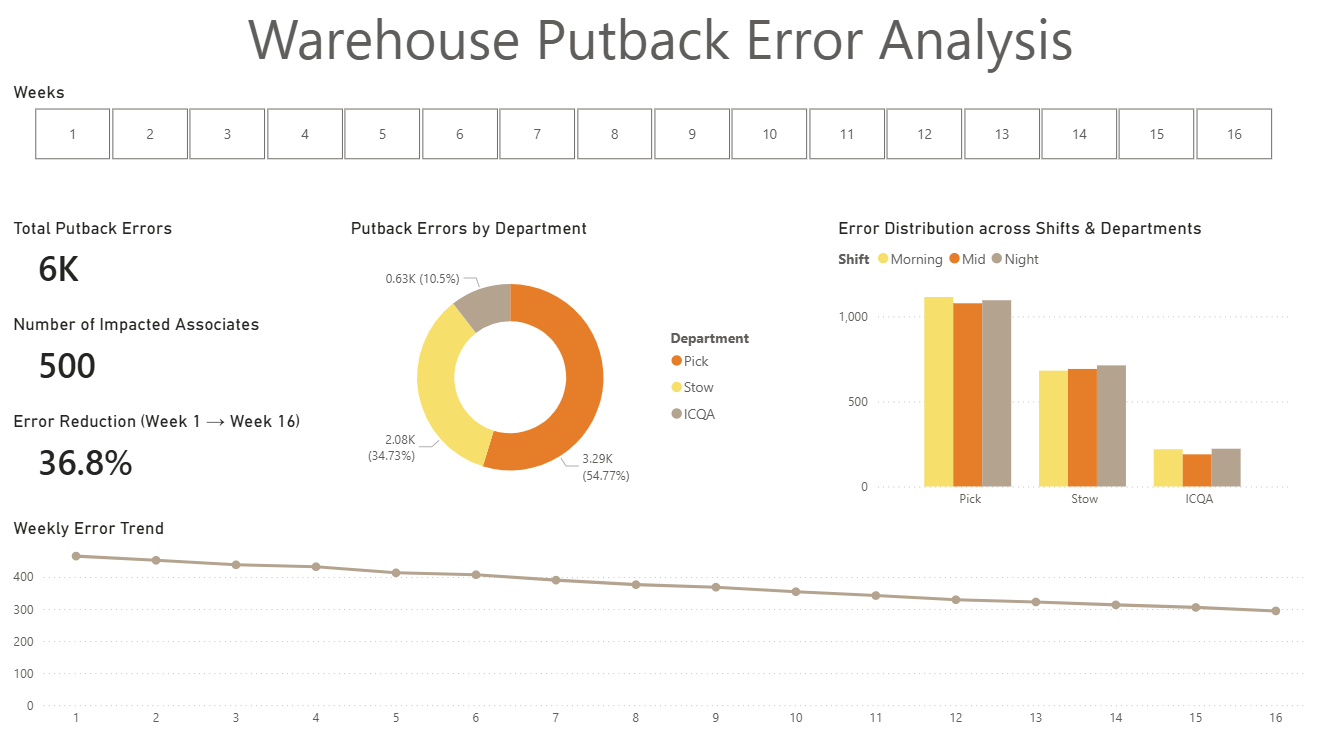

The page's visual inventory and layout, read from the dashboard file:
{"tool":"powerbi","page":{"name":"Page 1","canvas":[1280,720],"ordinal":0},"visuals":[{"type":"donutChart","title":"Putback Errors by Department","fields":{"Category":["putback_errors raw_data.Department"],"Y":["CountNonNull(putback_errors raw_data.Error_ID)"]},"box":[335.4,219.6,411.4,289.5],"z":0},{"type":"clusteredColumnChart","title":"Error Distribution across Shifts & Departments","fields":{"Category":["putback_errors raw_data.Department"],"Series":["putback_errors raw_data.Shift"],"Y":["CountNonNull(putback_errors raw_data.Error_ID)"]},"box":[805.9,219.6,447.6,289.5],"z":1},{"type":"cardVisual","title":"Total Putback Errors","fields":{"Data":["CountNonNull(putback_errors raw_data.Error_ID)"]},"box":[9.7,219.6,289.5,79.6],"z":2},{"type":"cardVisual","title":"Number of Impacted Associates","fields":{"Data":["Count(putback_errors raw_data.Associate_ID)"]},"box":[9.7,312.5,289.5,80.8],"z":3},{"type":"slicer","title":"Weeks","fields":{"Values":["putback_errors raw_data.Week"]},"box":[9.7,88.1,1243.8,82],"z":4},{"type":"lineChart","title":"Weekly Error Trend","fields":{"Category":["putback_errors raw_data.Week"],"Y":["CountNonNull(putback_errors raw_data.Error_ID)"]},"box":[9.6,509.1,1259.7,211.3],"z":5},{"type":"actionButton","box":[9.7,0,1259.5,88.1],"z":6},{"type":"cardVisual","title":"Error Reduction (Week 1 → Week 16)","fields":{"Data":["putback_errors raw_data.Error Reduction %"]},"box":[9.7,405.4,289.5,82],"z":7}]}

Visuals, with their boxes in screenshot pixels (x1, y1, x2, y2), scaled from the page's 1280x720 canvas onto the 1322x736 screenshot:
"Putback Errors by Department" donutChart: (left=346, top=224, right=771, bottom=520)
"Error Distribution across Shifts & Departments" clusteredColumnChart: (left=832, top=224, right=1295, bottom=520)
"Total Putback Errors" cardVisual: (left=10, top=224, right=309, bottom=306)
"Number of Impacted Associates" cardVisual: (left=10, top=319, right=309, bottom=402)
"Weeks" slicer: (left=10, top=90, right=1295, bottom=174)
"Weekly Error Trend" lineChart: (left=10, top=520, right=1311, bottom=735)
actionButton: (left=10, top=0, right=1311, bottom=90)
"Error Reduction (Week 1 → Week 16)" cardVisual: (left=10, top=414, right=309, bottom=498)
